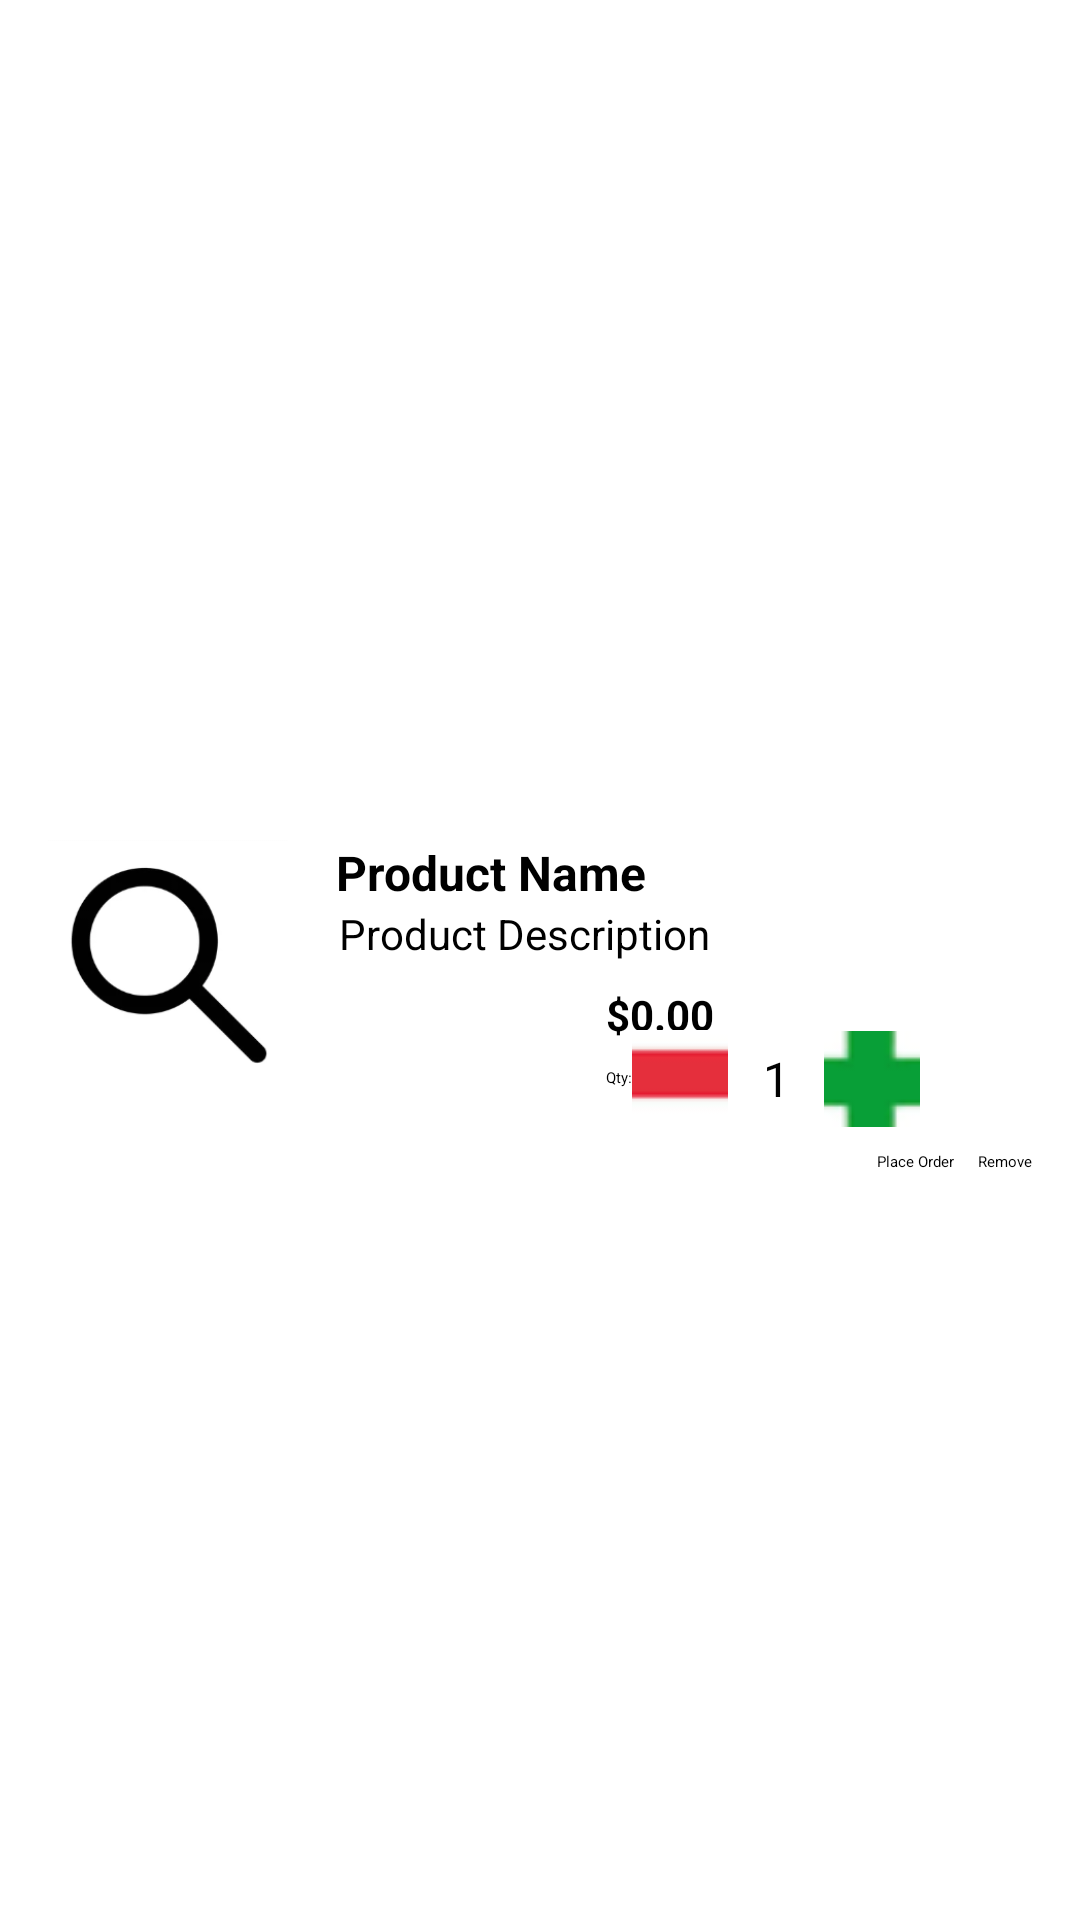

Icon click points for this 1080 x 1920 phone screenshot, format (x=x, y=y):
Increase Quantity: (x=872, y=1079)
